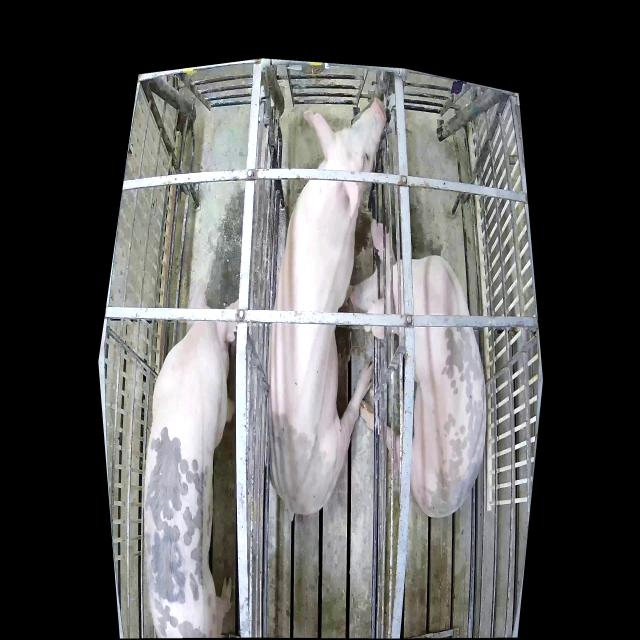pig: (268, 98, 387, 514), (353, 220, 488, 517), (145, 278, 239, 636)
